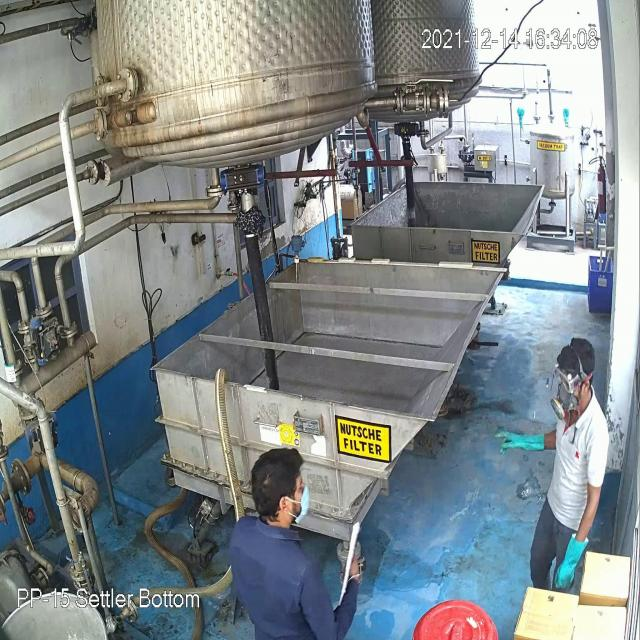Gloves: (36, 36, 571, 560)
